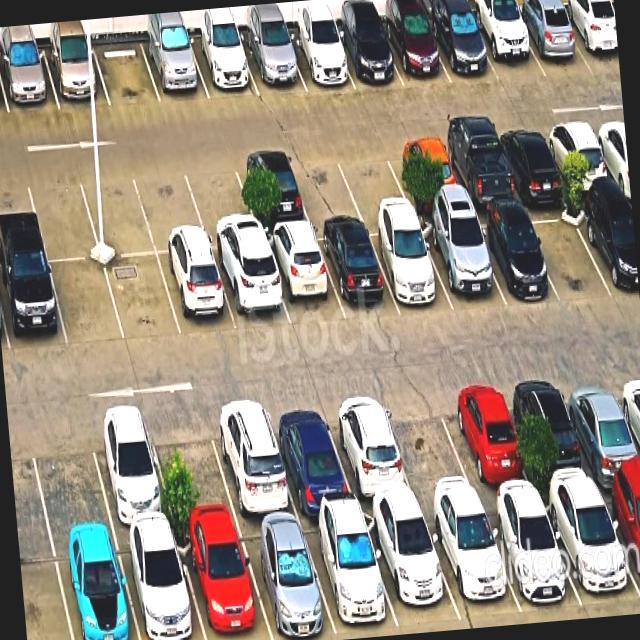car: (300, 513, 400, 640), (540, 488, 640, 613), (236, 520, 337, 640), (481, 497, 582, 613), (422, 502, 521, 620), (362, 509, 461, 626), (440, 379, 535, 500), (206, 398, 298, 521), (175, 524, 271, 640), (322, 393, 418, 508), (264, 398, 356, 515), (508, 374, 598, 493), (85, 411, 174, 531), (115, 529, 205, 640), (558, 371, 640, 487), (52, 534, 139, 640), (467, 210, 557, 305), (417, 216, 506, 311), (262, 228, 345, 328), (314, 223, 399, 319), (365, 220, 453, 312), (158, 251, 237, 337), (212, 247, 291, 331), (574, 196, 639, 298), (0, 258, 67, 353), (438, 131, 519, 209), (233, 151, 311, 229), (469, 10, 546, 83), (387, 137, 465, 208), (493, 125, 568, 198), (512, 8, 592, 76), (541, 120, 615, 192), (380, 15, 451, 87), (426, 13, 499, 83), (598, 481, 640, 597), (331, 22, 403, 89), (188, 36, 259, 100), (141, 37, 209, 103), (43, 44, 110, 110), (284, 29, 354, 91), (559, 3, 619, 72), (240, 33, 306, 95), (0, 48, 59, 114)
free: (378, 385, 479, 507), (145, 409, 238, 527), (26, 415, 112, 538), (522, 200, 613, 298), (182, 155, 261, 250), (77, 166, 156, 257), (133, 162, 209, 254), (25, 169, 100, 261), (104, 254, 181, 342), (49, 260, 124, 347), (286, 146, 362, 222), (334, 142, 411, 216), (92, 40, 161, 106)
